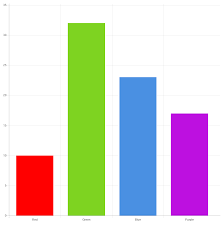Xaxis: (1, 212, 222, 224)
Yaxis: (1, 1, 14, 221)
bar: (67, 22, 106, 217), (118, 76, 157, 216), (169, 112, 210, 218), (15, 154, 54, 217)
